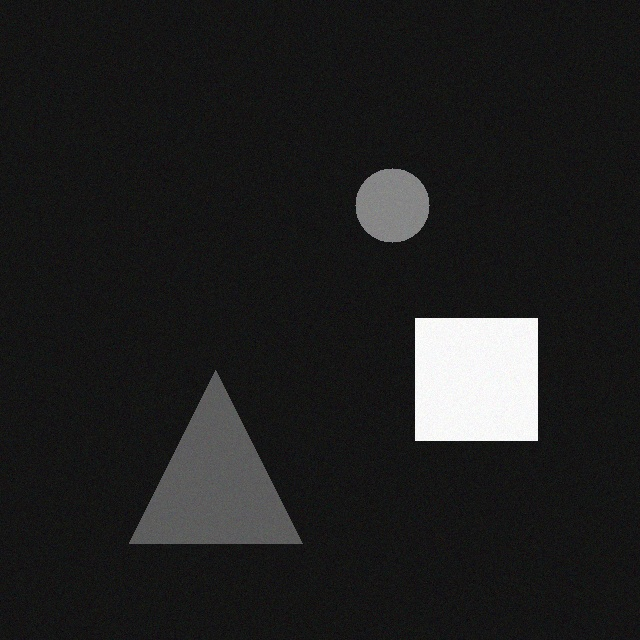circle: (341, 156, 415, 230)
square: (401, 306, 523, 428)
triangle: (115, 358, 288, 531)
